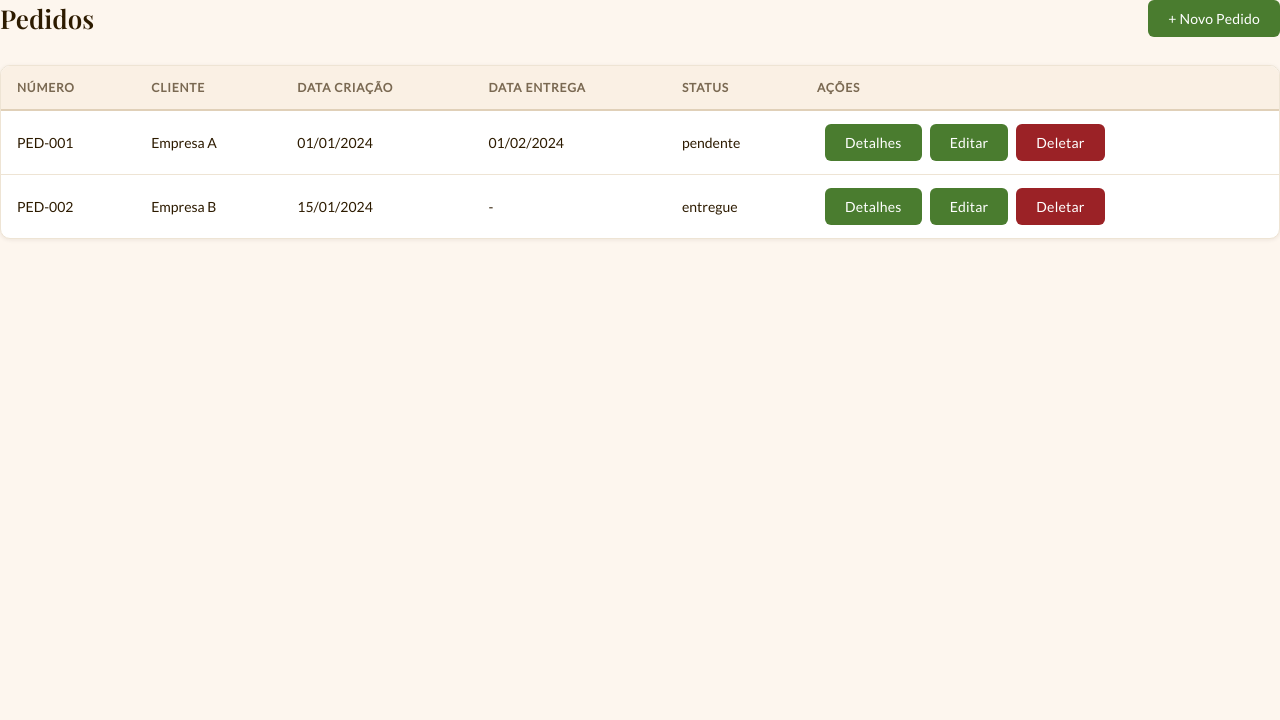
it: Pedidos › abre modal de novo pedido ao clicar no botão
Check: the text "PED-001" is shown, box [1,110,135,174]
Click the button "+ Novo Pedido": point(1214, 18) [1148,0,1279,37]
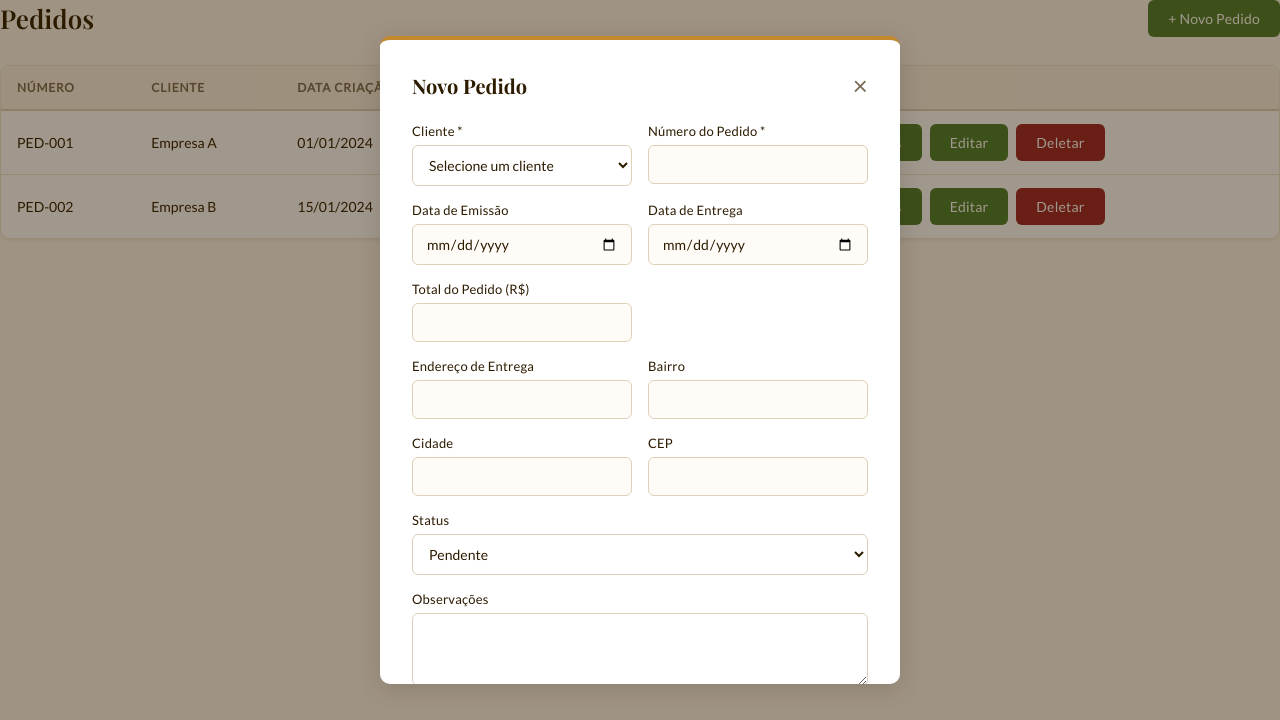
Check: the heading "Novo Pedido" is shown, box [412,72,527,99]
